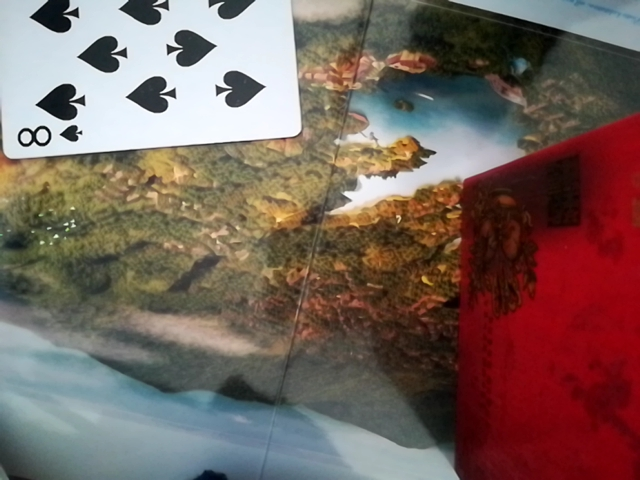ht 8: (0, 0, 306, 160)
